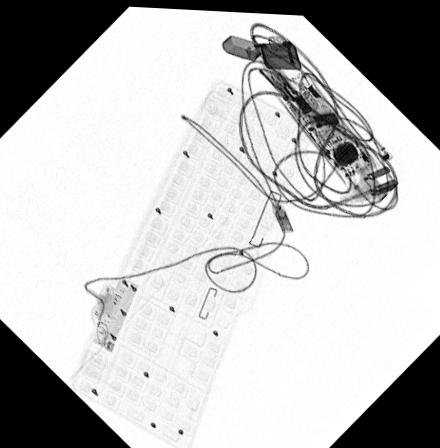Lighter: (220, 32, 300, 66)
